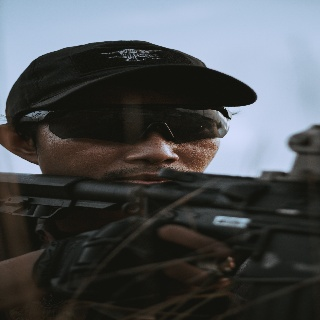rifle: (1, 124, 320, 300)
